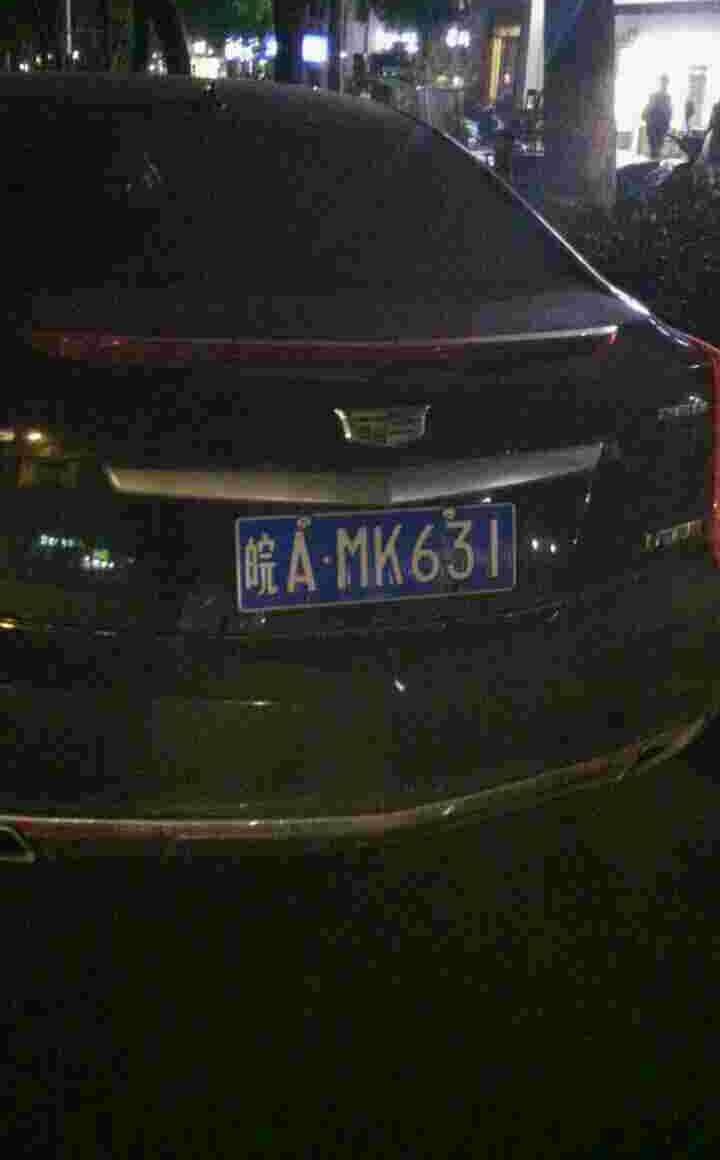license_plate: (237, 502, 518, 617)
